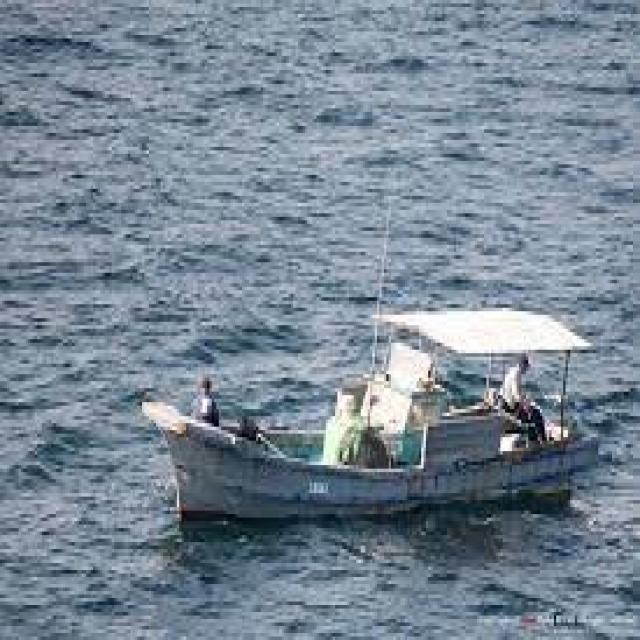Ship: (141, 281, 607, 530)
